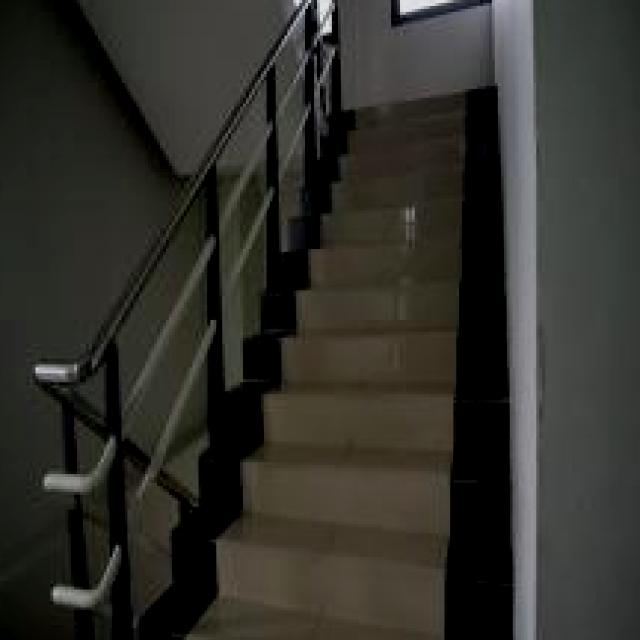upstair: (250, 104, 510, 640)
